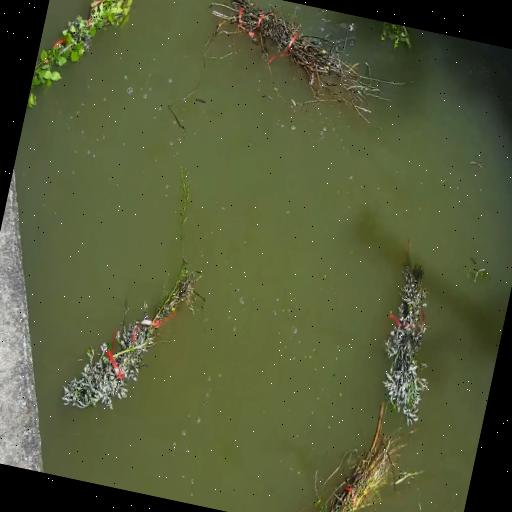twig: (62, 169, 203, 408), (206, 0, 389, 118), (30, 0, 132, 89), (319, 404, 398, 512), (384, 263, 427, 424), (382, 22, 410, 47)
